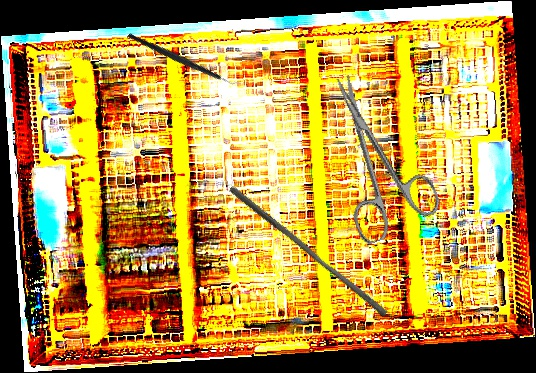Chopper: (126, 0, 243, 117)
Iris Scissors: (304, 60, 446, 247)
Pusher: (223, 185, 393, 318)
